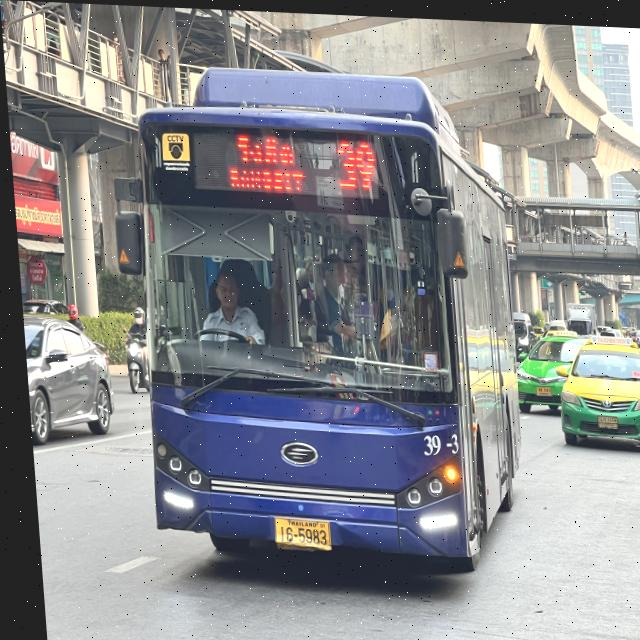Bus Line Number: (327, 130, 378, 197)
Bus Side Number: (413, 427, 455, 455)
Destination Sign: (218, 127, 309, 197)
TSB-Bus: (104, 45, 532, 609)
